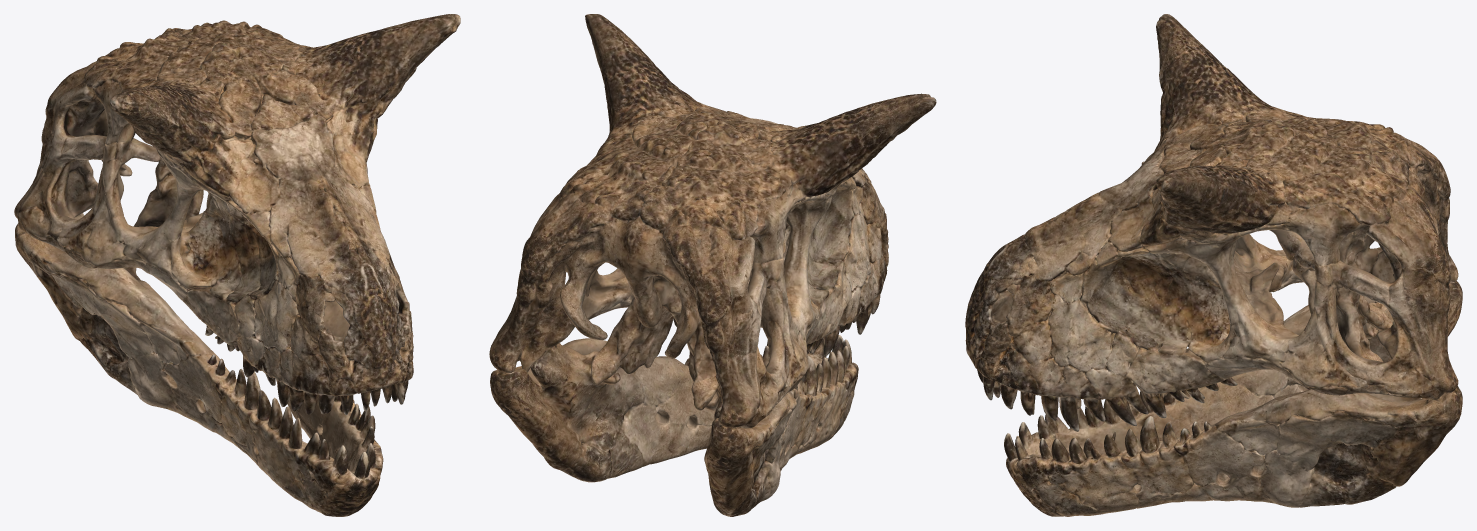
File: carnotaurus_head.glb
3 views of the same model, side by side, from view 1: azimuth 30°, elevation 25°; view 2: azimuth 150°, elevation 25°; view 3: azimuth 270°, elevation 25° (orthographic).
Visible parts, largest first — view 1: head; view 2: head; view 3: head.
Boxes of the visible parts, <box> form: head: <box>14,14,460,516</box>; head: <box>489,14,936,516</box>; head: <box>965,14,1462,516</box>.
Size of the model in its own units: 1.53 by 1.74 by 1.89.
Materials: 1 (1 with a texture image).
